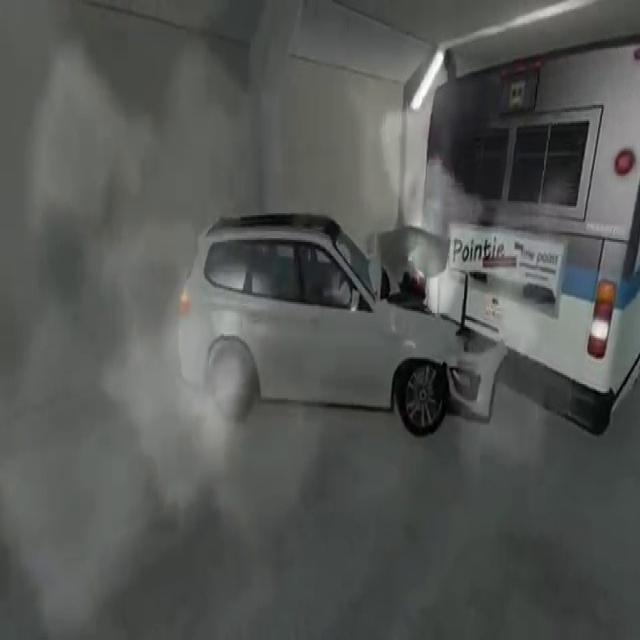severe: (173, 27, 640, 450)
